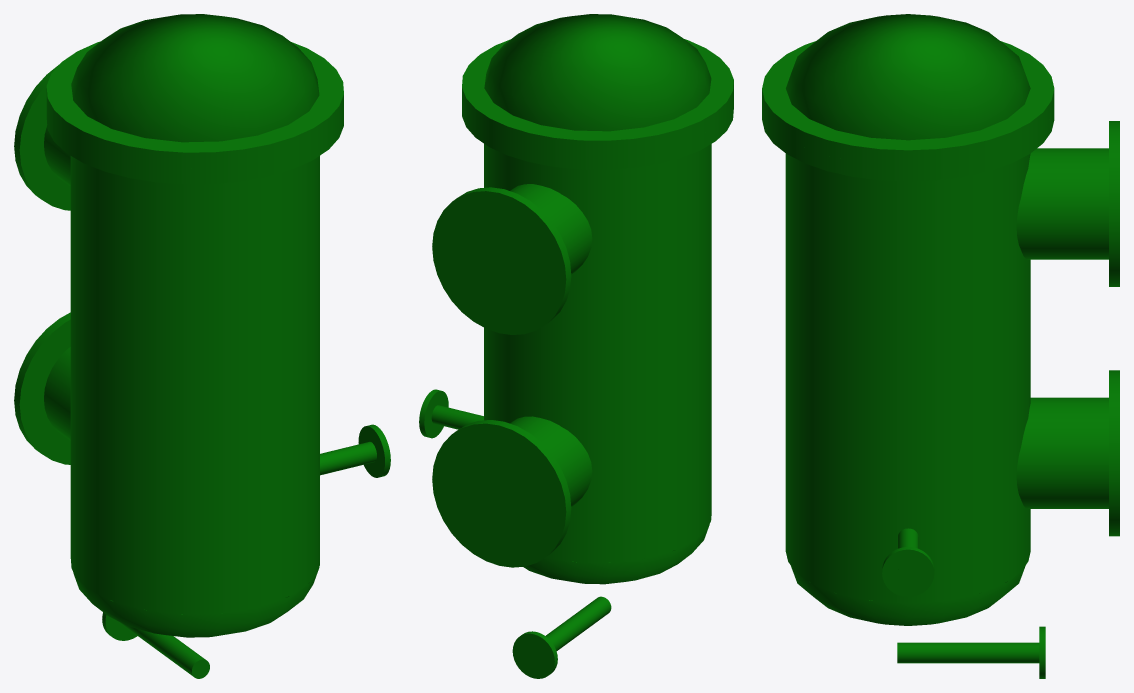
Rendered from Image-1710907725799-2281074184288_50-CA50A.fbx.
The picture shows the model from 3 angles, left to right: view 1: azimuth 30°, elevation 25°; view 2: azimuth 150°, elevation 25°; view 3: azimuth 270°, elevation 25°; orthographic projection. The views are drawn at different scales.
Visible parts, largest first — view 1: CYLINDER 1 of SUBEQUIPMENT /50-CA50A/PRIM, DISH 2 of SUBEQUIPMENT /50-CA50A/PRIM, CYLINDER 3 of SUBEQUIPMENT /50-CA50A/PRIM, /50-CA50A-INLET, CYLINDER 2 of SUBEQUIPMENT /50-CA50A/PRIM, DISH 1 of SUBEQUIPMENT /50-CA50A/PRIM, /50-CA50A-OUTLET, /50-CA50A-OVERBOARD1, /50-CA50A-OVERBOARD2; view 2: CYLINDER 1 of SUBEQUIPMENT /50-CA50A/PRIM, DISH 2 of SUBEQUIPMENT /50-CA50A/PRIM, /50-CA50A-INLET, /50-CA50A-OUTLET, CYLINDER 3 of SUBEQUIPMENT /50-CA50A/PRIM, CYLINDER 2 of SUBEQUIPMENT /50-CA50A/PRIM, DISH 1 of SUBEQUIPMENT /50-CA50A/PRIM, /50-CA50A-OVERBOARD2, /50-CA50A-OVERBOARD1; view 3: CYLINDER 1 of SUBEQUIPMENT /50-CA50A/PRIM, DISH 2 of SUBEQUIPMENT /50-CA50A/PRIM, /50-CA50A-INLET, /50-CA50A-OUTLET, CYLINDER 3 of SUBEQUIPMENT /50-CA50A/PRIM, CYLINDER 2 of SUBEQUIPMENT /50-CA50A/PRIM, DISH 1 of SUBEQUIPMENT /50-CA50A/PRIM, /50-CA50A-OVERBOARD2, /50-CA50A-OVERBOARD1.
Boxes of the visible parts, x1,y1,x2,y2 form: CYLINDER 1 of SUBEQUIPMENT /50-CA50A/PRIM: [70, 156, 319, 614]; DISH 2 of SUBEQUIPMENT /50-CA50A/PRIM: [71, 14, 319, 142]; CYLINDER 3 of SUBEQUIPMENT /50-CA50A/PRIM: [46, 41, 343, 168]; /50-CA50A-INLET: [14, 312, 70, 464]; CYLINDER 2 of SUBEQUIPMENT /50-CA50A/PRIM: [46, 104, 343, 184]; DISH 1 of SUBEQUIPMENT /50-CA50A/PRIM: [73, 567, 319, 637]; /50-CA50A-OUTLET: [14, 65, 70, 210]; /50-CA50A-OVERBOARD1: [320, 424, 390, 477]; /50-CA50A-OVERBOARD2: [102, 612, 209, 678]; CYLINDER 1 of SUBEQUIPMENT /50-CA50A/PRIM: [484, 144, 711, 562]; DISH 2 of SUBEQUIPMENT /50-CA50A/PRIM: [484, 14, 711, 131]; /50-CA50A-INLET: [432, 416, 592, 567]; /50-CA50A-OUTLET: [432, 184, 592, 334]; CYLINDER 3 of SUBEQUIPMENT /50-CA50A/PRIM: [462, 39, 733, 155]; CYLINDER 2 of SUBEQUIPMENT /50-CA50A/PRIM: [462, 95, 733, 169]; DISH 1 of SUBEQUIPMENT /50-CA50A/PRIM: [523, 524, 709, 584]; /50-CA50A-OVERBOARD2: [512, 596, 611, 678]; /50-CA50A-OVERBOARD1: [419, 389, 483, 438]; CYLINDER 1 of SUBEQUIPMENT /50-CA50A/PRIM: [785, 153, 1030, 603]; DISH 2 of SUBEQUIPMENT /50-CA50A/PRIM: [786, 14, 1030, 140]; /50-CA50A-INLET: [1016, 370, 1119, 536]; /50-CA50A-OUTLET: [1016, 121, 1119, 286]; CYLINDER 3 of SUBEQUIPMENT /50-CA50A/PRIM: [762, 41, 1054, 165]; CYLINDER 2 of SUBEQUIPMENT /50-CA50A/PRIM: [762, 105, 1054, 181]; DISH 1 of SUBEQUIPMENT /50-CA50A/PRIM: [791, 565, 1025, 625]; /50-CA50A-OVERBOARD2: [897, 626, 1045, 678]; /50-CA50A-OVERBOARD1: [882, 528, 934, 596].
Bounding box in the file's own units: 1.03 × 1.04 × 2.06.
